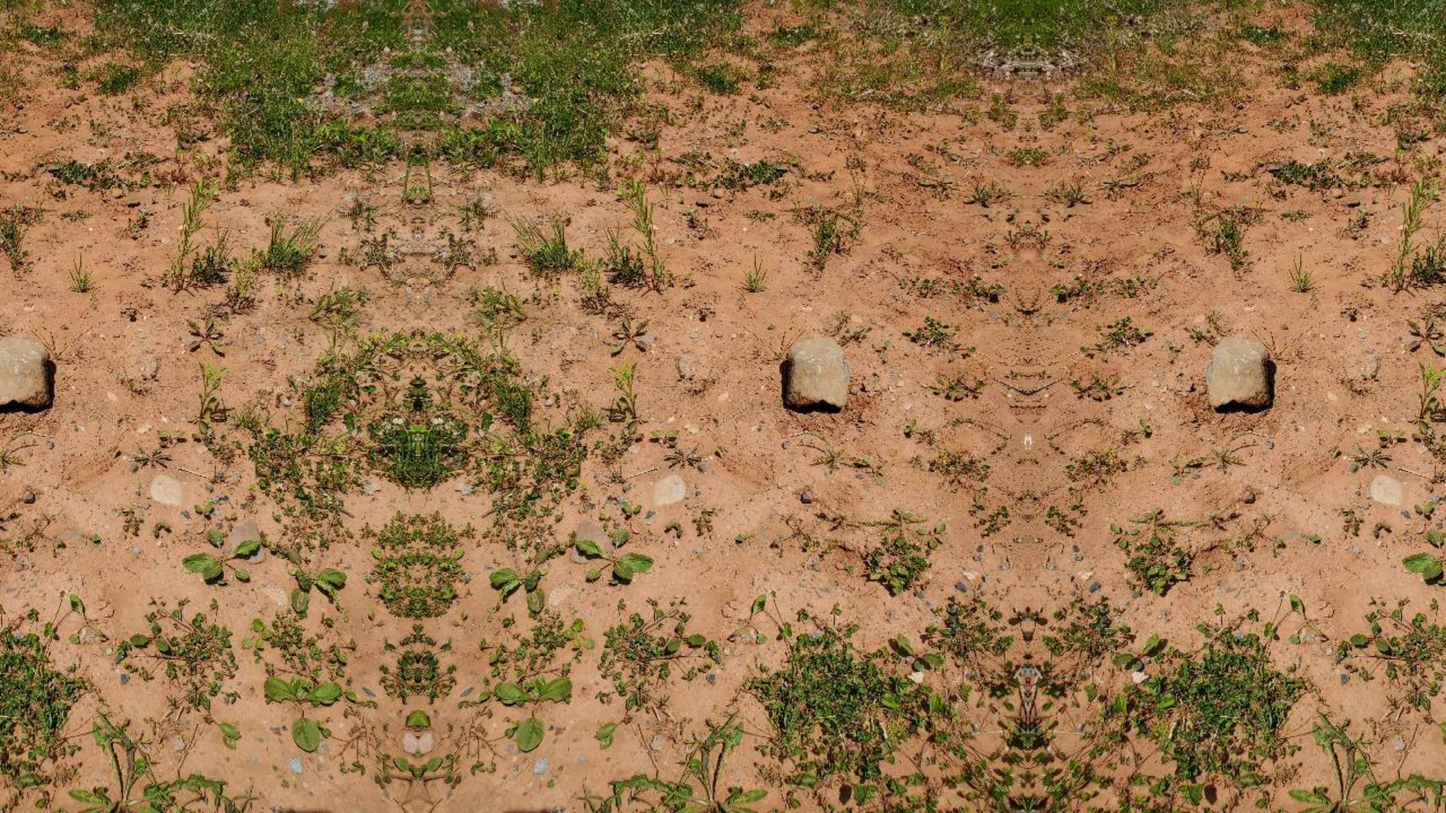rock: (1205, 338, 1271, 409), (785, 338, 850, 409), (0, 336, 51, 408)
